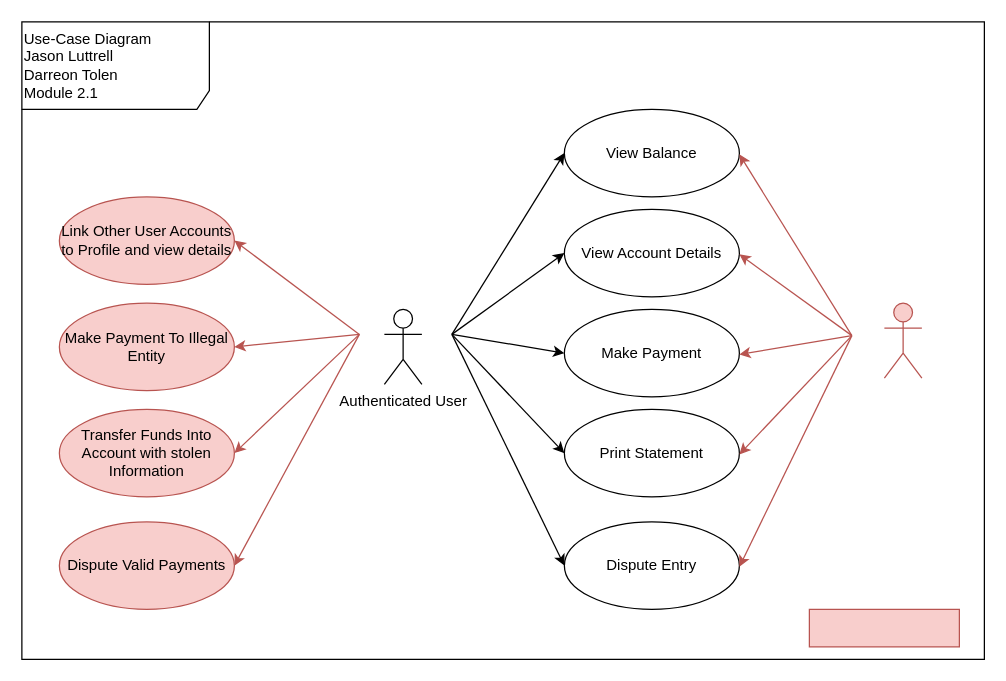
Some shapes in this 1006 by 681 pixel diagram are drawn without their labels. The shapes that lost their labels are listed below. From the top down, each one's centre as x and y in pixels, then its label:
pixel 902 340: Improperly Authenticated User
pixel 883 627: Abuse Cases in Red
